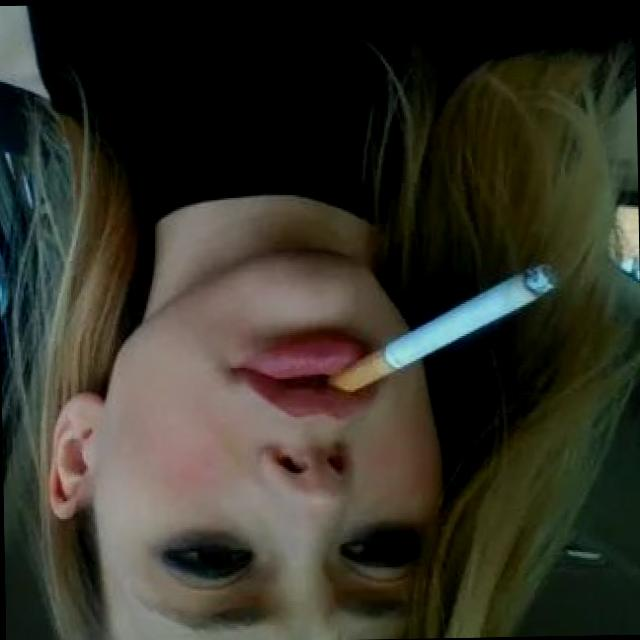smoke: (321, 256, 564, 396)
